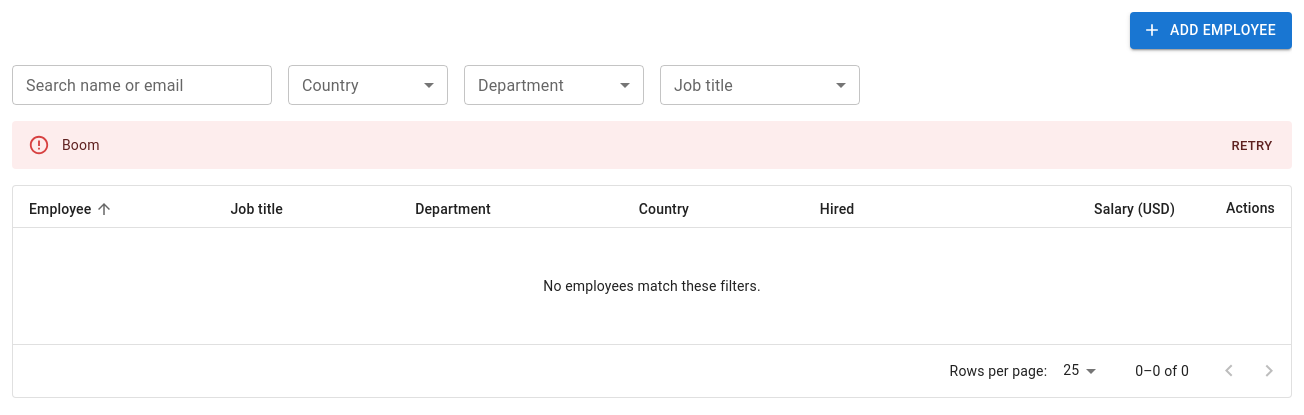
Test: EmployeeDirectory › shows the error and retries on request
expect the text "Boom" is shown: met, box left=62, top=136, right=100, bottom=152
Click the button "Retry" at coordinates (1252, 146), box left=1220, top=130, right=1284, bottom=161
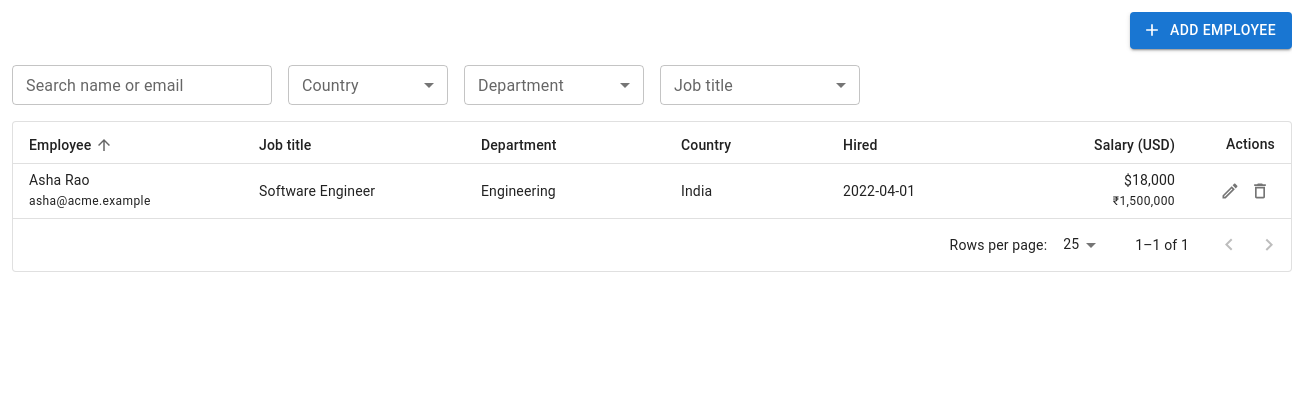
expect the text "Asha Rao" is shown: met, box left=29, top=172, right=90, bottom=188
